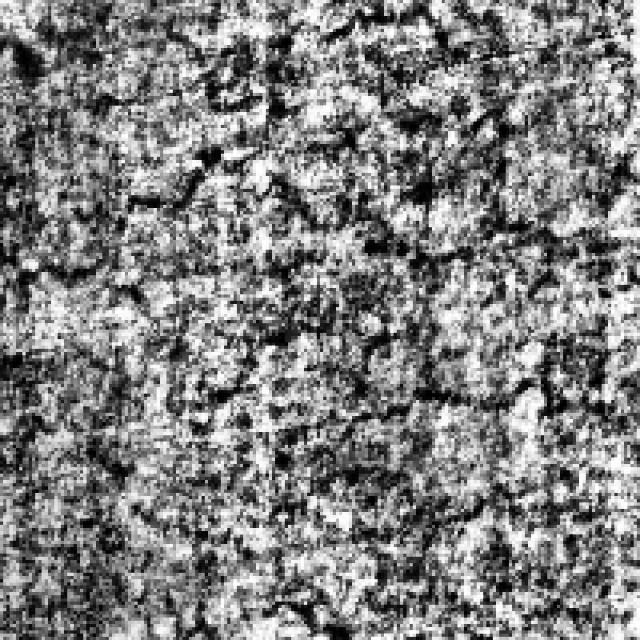Pitted_Surface: (9, 44, 518, 276), (192, 307, 573, 560)
